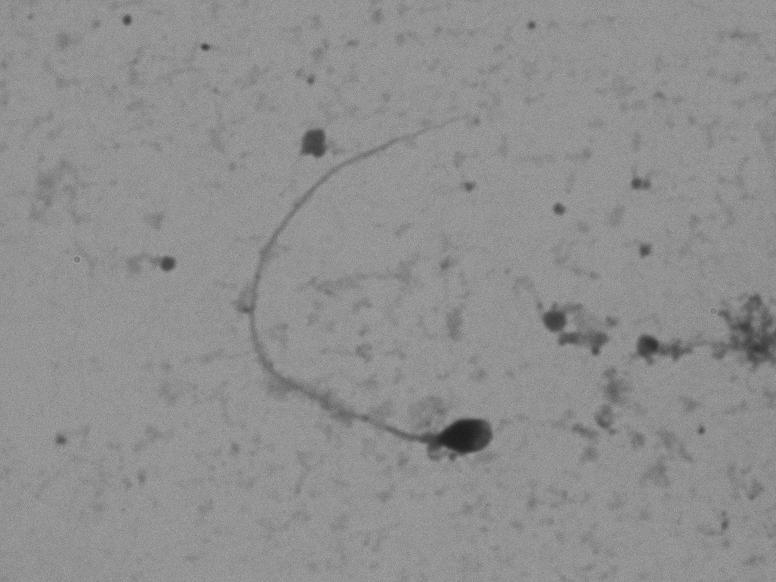Abnormal: (221, 89, 528, 490)
